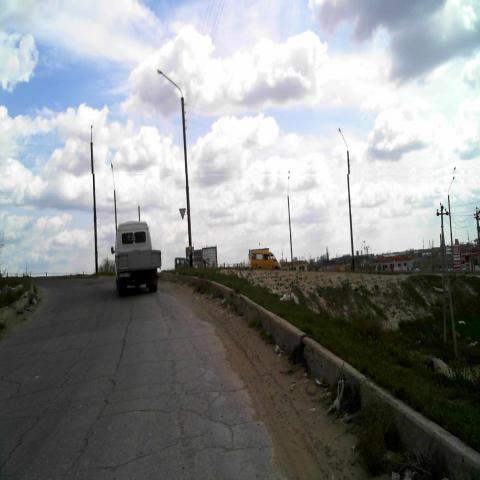2_4: (178, 207, 186, 221)
